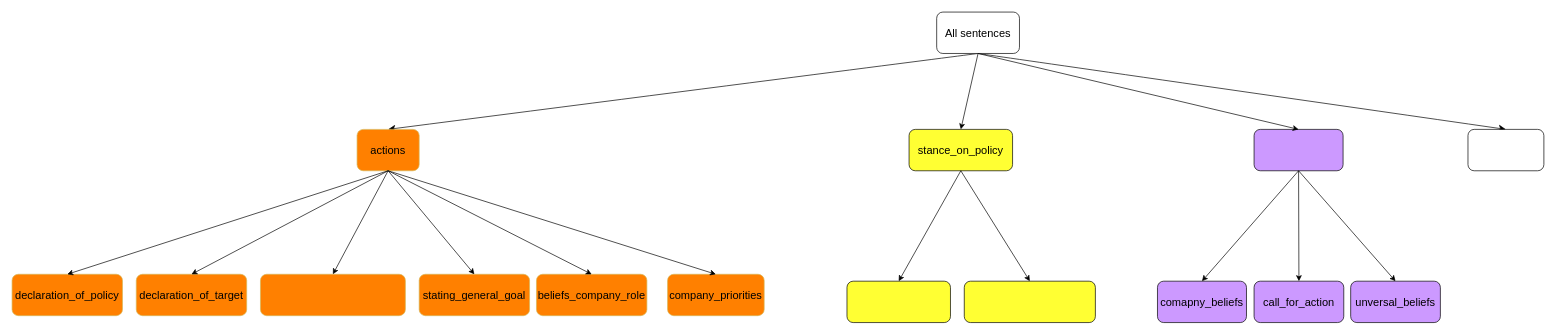
Image size: 1556x335. Some labels were removed from this diagram. Here are the shapes that lost their labels. From the top down, the centre of each, then its label:
[1298,150]: stance_on_CC
[1505,150]: not_relevant
[332,295]: stating_more_detailed_goal
[898,301]: support_for_policy
[1029,301]: support_for_government
